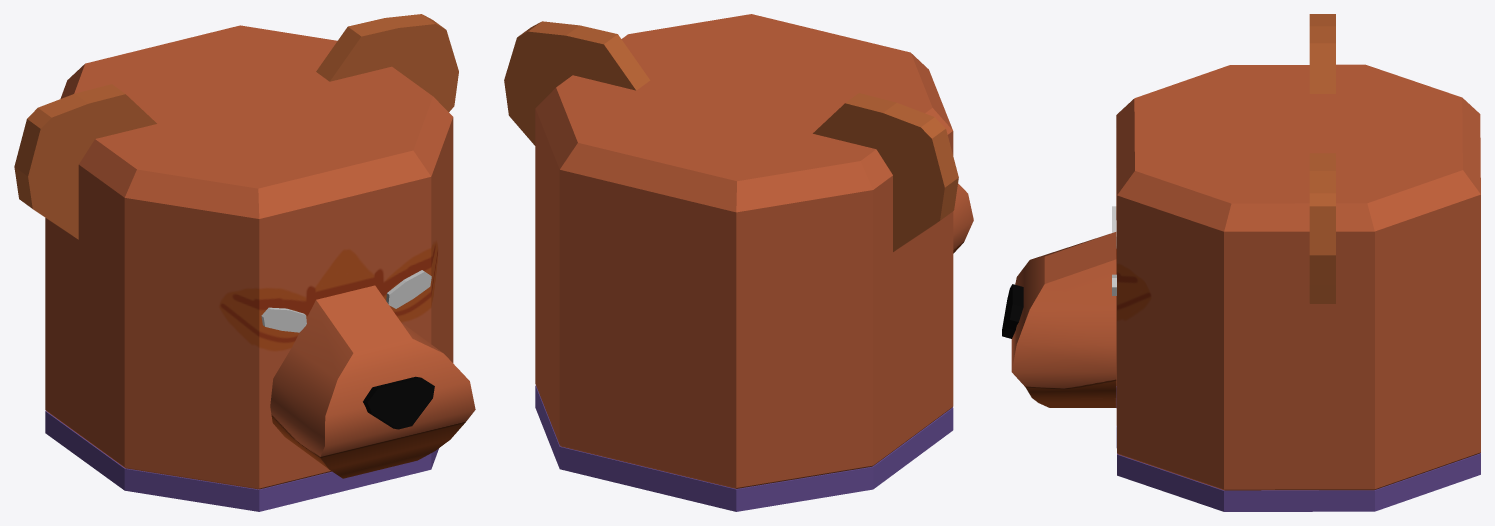
File: Cabeza.fbx
3 renders of one model, left to right at view 1: azimuth 30°, elevation 25°; view 2: azimuth 150°, elevation 25°; view 3: azimuth 270°, elevation 25°, orthographic. The views are drawn at different scales.
Parts seen in each view (by area): view 1: Circle.009, Cube.001, Cube.012, Circle.015, Cube, Cube.002, Cube.003; view 2: Circle.009, Cube.012, Circle.015, Cube, Cube.001; view 3: Circle.009, Cube.001, Circle.015, Cube, Cube.012, Cube.002.
Boxes of the visible parts, x1=… form: Circle.009: x1=45, y1=25, x2=453, y2=489; Cube.001: x1=270, y1=285, x2=475, y2=478; Cube.012: x1=14, y1=84, x2=156, y2=239; Circle.015: x1=45, y1=410, x2=438, y2=511; Cube: x1=316, y1=14, x2=458, y2=111; Cube.002: x1=363, y1=376, x2=434, y2=429; Cube.003: x1=261, y1=270, x2=431, y2=332; Circle.009: x1=535, y1=14, x2=953, y2=488; Cube.012: x1=813, y1=93, x2=958, y2=251; Circle.015: x1=535, y1=385, x2=953, y2=511; Cube: x1=504, y1=21, x2=650, y2=145; Cube.001: x1=953, y1=183, x2=973, y2=253; Circle.009: x1=1116, y1=64, x2=1480, y2=490; Cube.001: x1=1011, y1=232, x2=1116, y2=407; Circle.015: x1=1116, y1=386, x2=1480, y2=511; Cube: x1=1309, y1=153, x2=1335, y2=303; Cube.012: x1=1309, y1=14, x2=1335, y2=93; Cube.002: x1=1002, y1=284, x2=1023, y2=338.
Size of the model in its own units: 338 by 266 by 341.
